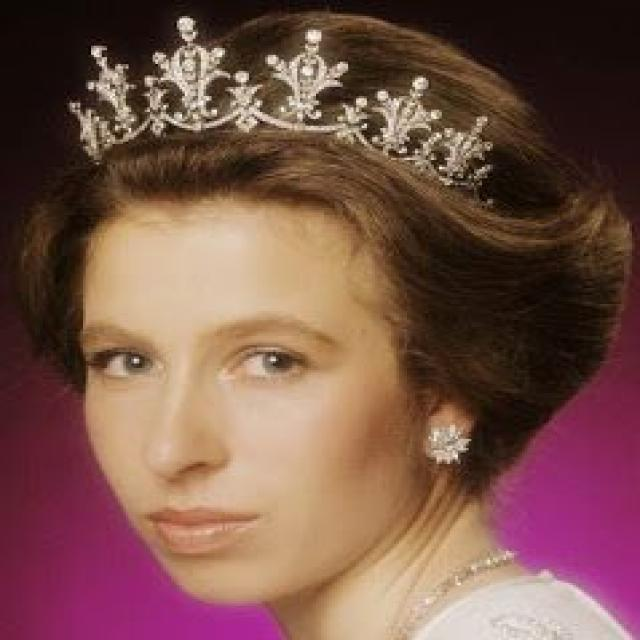Earring: (414, 410, 482, 480)
